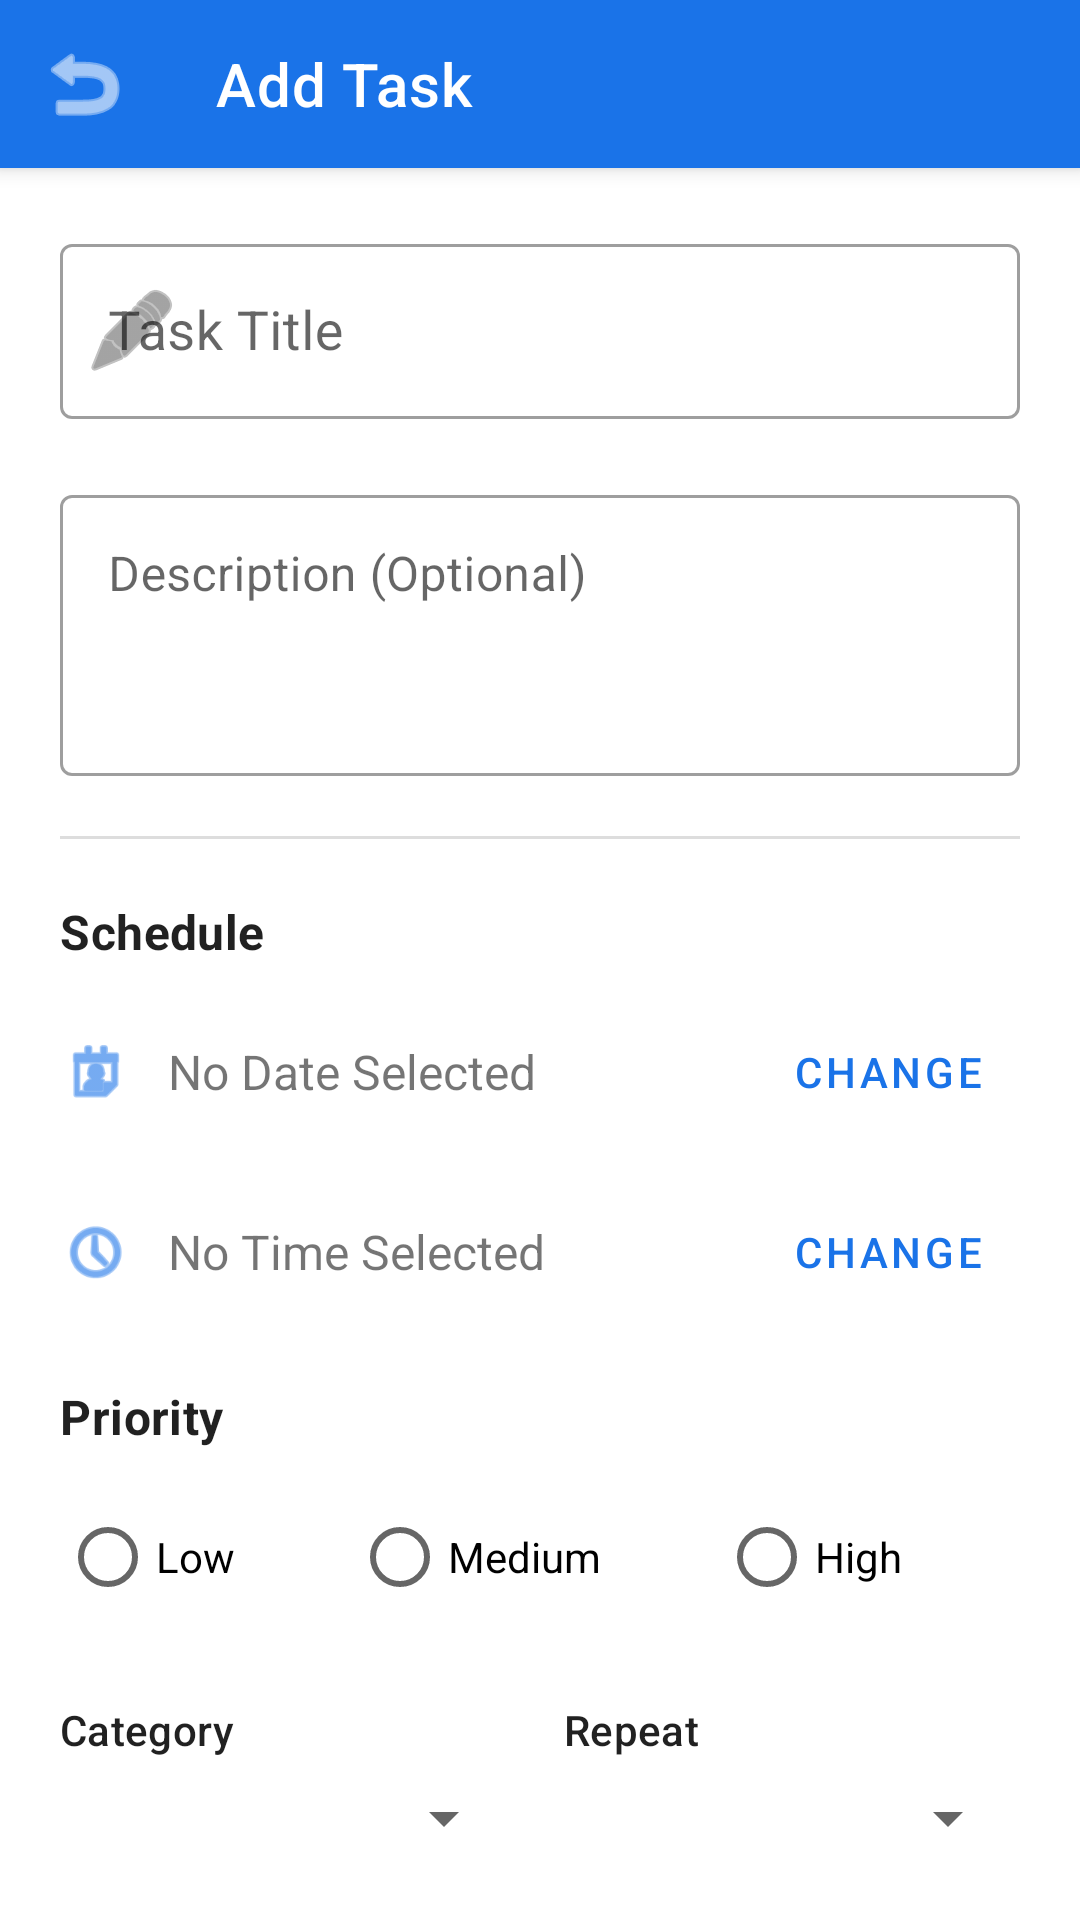

Screen size 1080 x 1920. Icon name, then its box in pixels as {"left": x1, "top": y1, "right": x2, "bottom": y2}:
calendar: {"left": 73, "top": 1045, "right": 119, "bottom": 1098}
recent history: {"left": 70, "top": 1226, "right": 122, "bottom": 1278}
